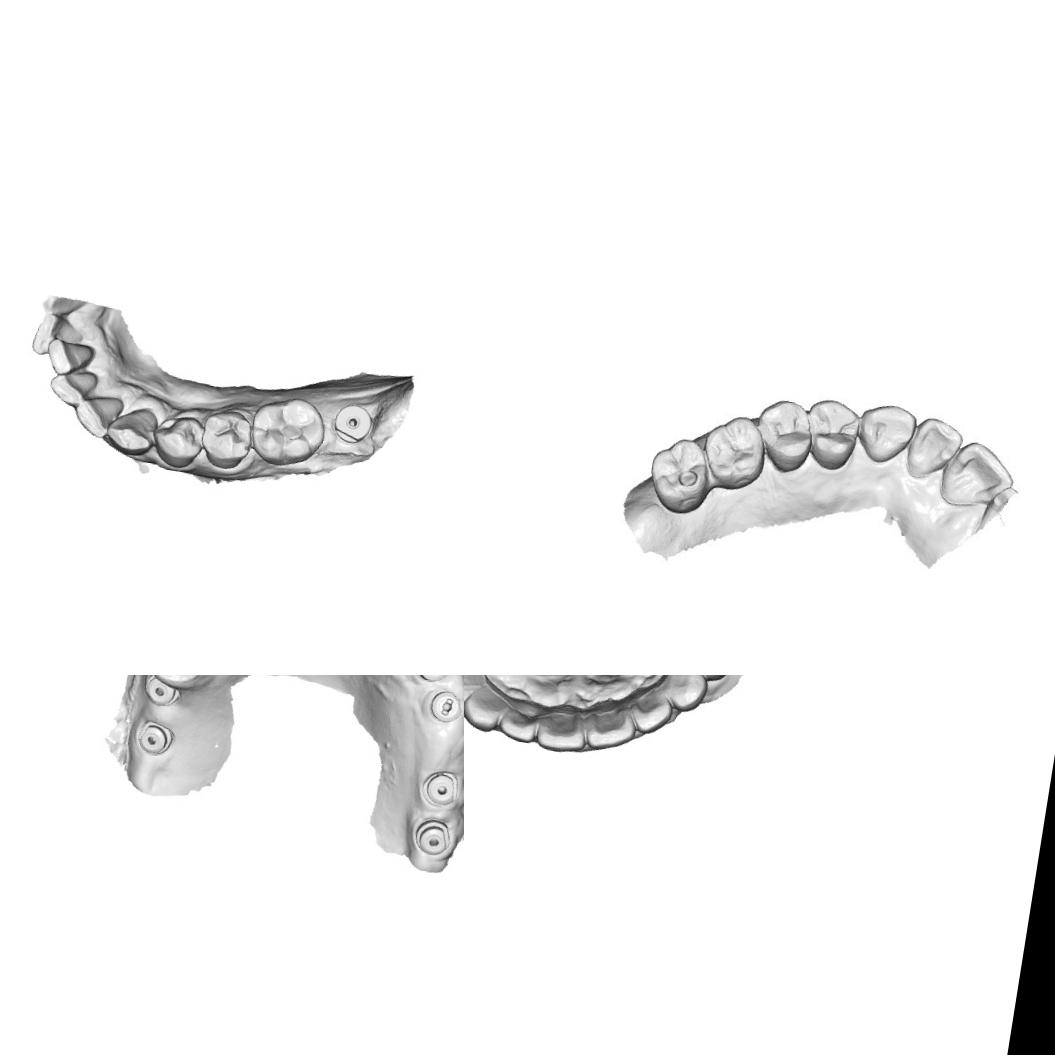canine: (101, 398, 162, 460), (858, 402, 917, 466), (464, 680, 512, 740), (653, 675, 713, 717)
implant: (327, 399, 379, 452), (416, 764, 464, 812), (408, 816, 457, 862), (130, 717, 176, 756), (138, 675, 184, 710)
implant_minus: (422, 686, 464, 728), (409, 675, 456, 689)
incisor: (942, 441, 1012, 514), (902, 416, 967, 484), (578, 696, 642, 758), (530, 701, 594, 758), (28, 308, 90, 363), (67, 387, 124, 442), (44, 362, 101, 416), (628, 684, 676, 739), (42, 336, 98, 382), (495, 694, 544, 746)
molar: (244, 390, 331, 474), (643, 433, 715, 518), (698, 410, 766, 490)
premolar: (753, 397, 820, 474), (144, 406, 210, 474), (196, 404, 258, 476), (805, 397, 861, 470), (464, 675, 491, 715)
